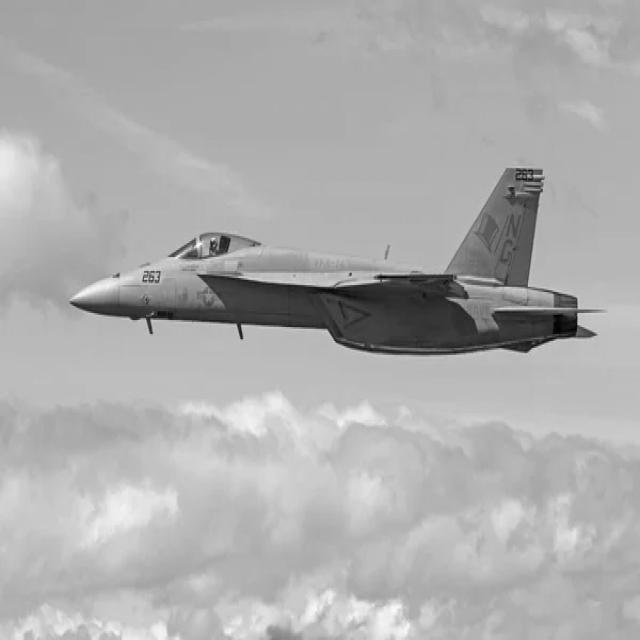Aircraft: (73, 165, 614, 372)
